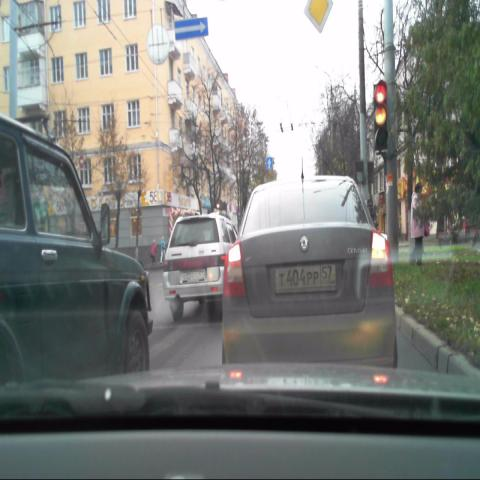2_1: (303, 0, 335, 35)
